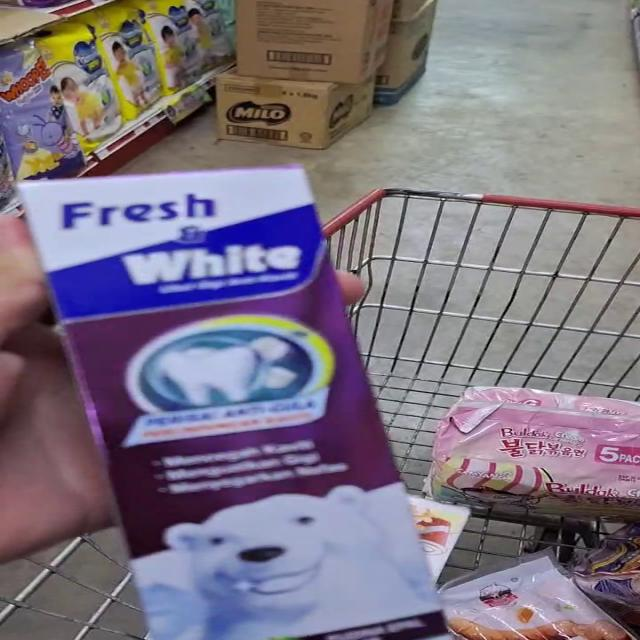Ubat Gigi: (82, 381, 465, 640), (21, 168, 383, 398)
